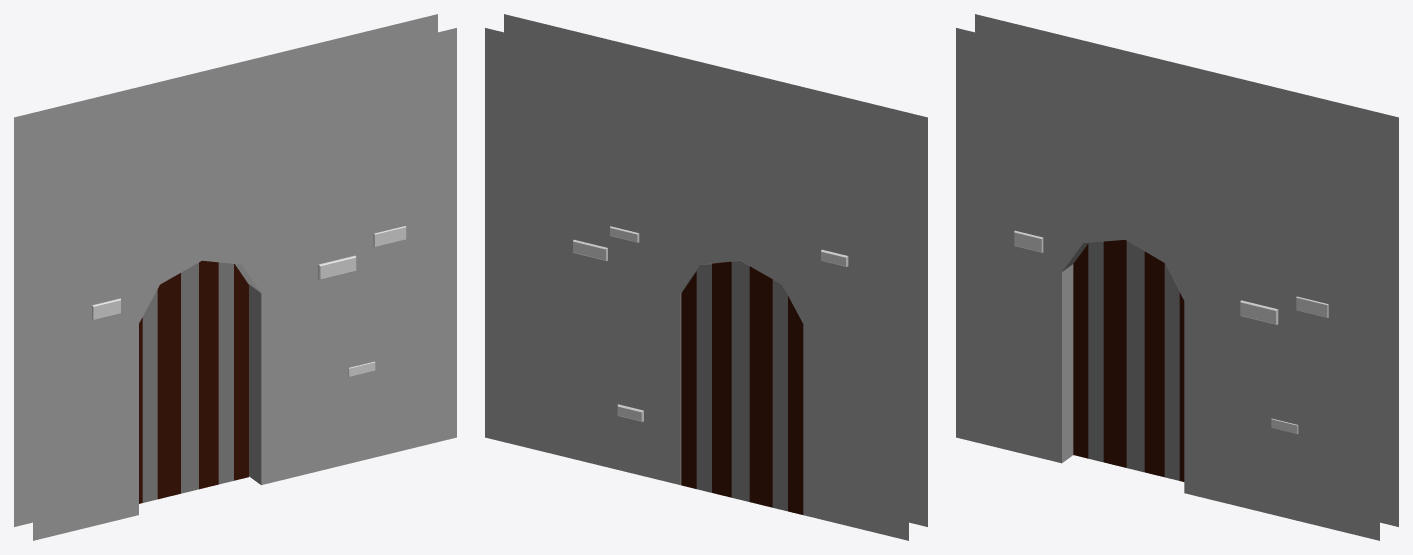
The model's file is WallDoor.fbx.
3 views of the same model, side by side, from view 1: azimuth 30°, elevation 25°; view 2: azimuth 150°, elevation 25°; view 3: azimuth 330°, elevation 25° (orthographic).
Visible parts, largest first — view 1: SmallDoor, SmallDoor.Door; view 2: SmallDoor, SmallDoor.Door; view 3: SmallDoor, SmallDoor.Door.
Boxes of the visible parts, x1,y1,x2,y2 form: SmallDoor: (14, 14, 456, 540); SmallDoor.Door: (139, 260, 248, 503); SmallDoor: (485, 14, 927, 540); SmallDoor.Door: (681, 260, 803, 514); SmallDoor: (956, 14, 1398, 540); SmallDoor.Door: (1073, 240, 1184, 481).
Size of the model in its own units: 3.25 by 3 by 0.2924.
